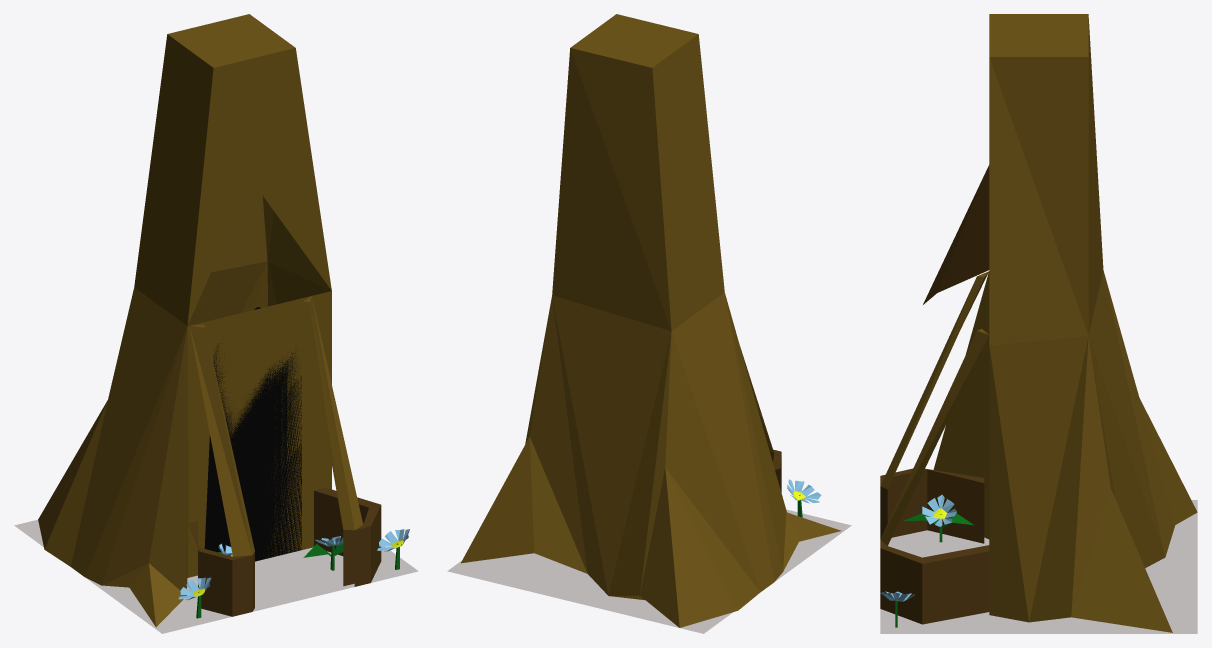
Rendered from obj_fairy_house_3_0.obj.
3 views of the same model, side by side, from view 1: azimuth 30°, elevation 25°; view 2: azimuth 150°, elevation 25°; view 3: azimuth 270°, elevation 25° (orthographic). The views are drawn at different scales.
Size of the model in its own units: 1.01 by 1.88 by 1.
